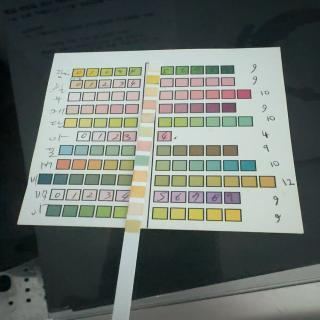mark: (128, 203, 145, 216), (126, 220, 142, 232), (134, 156, 149, 167), (131, 187, 144, 198), (138, 141, 151, 152), (133, 172, 147, 182), (142, 113, 156, 123), (140, 128, 154, 137), (144, 100, 156, 109), (145, 88, 157, 96), (148, 76, 160, 84), (148, 65, 160, 72)
